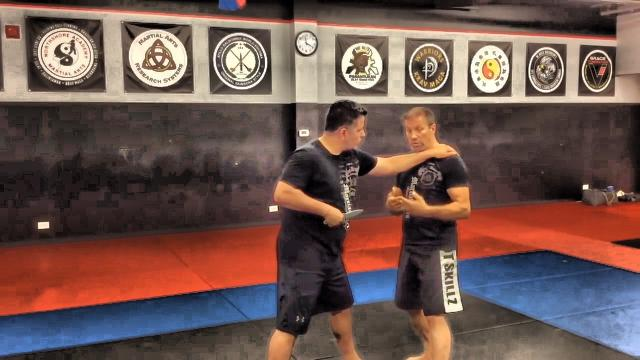knife: (321, 206, 364, 228)
